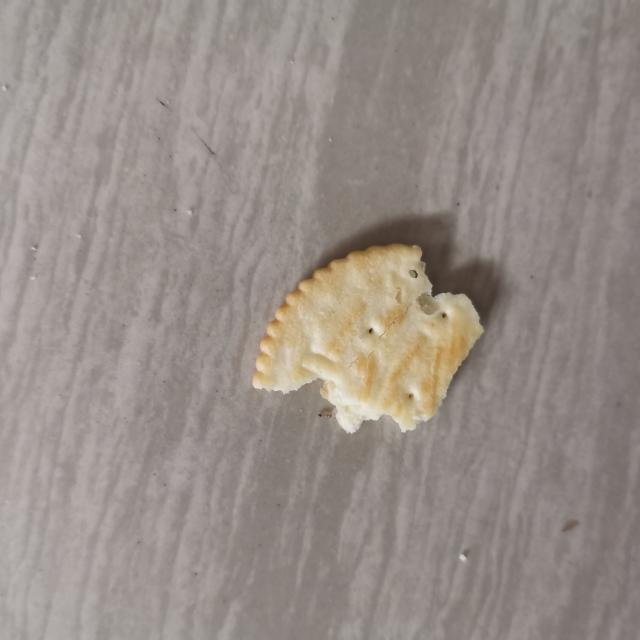Broken: (246, 240, 489, 447)
